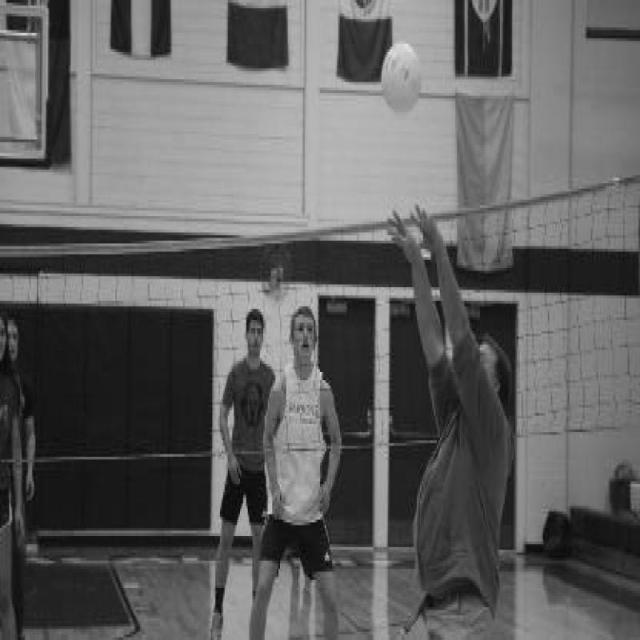volleyball: (380, 38, 423, 115)
